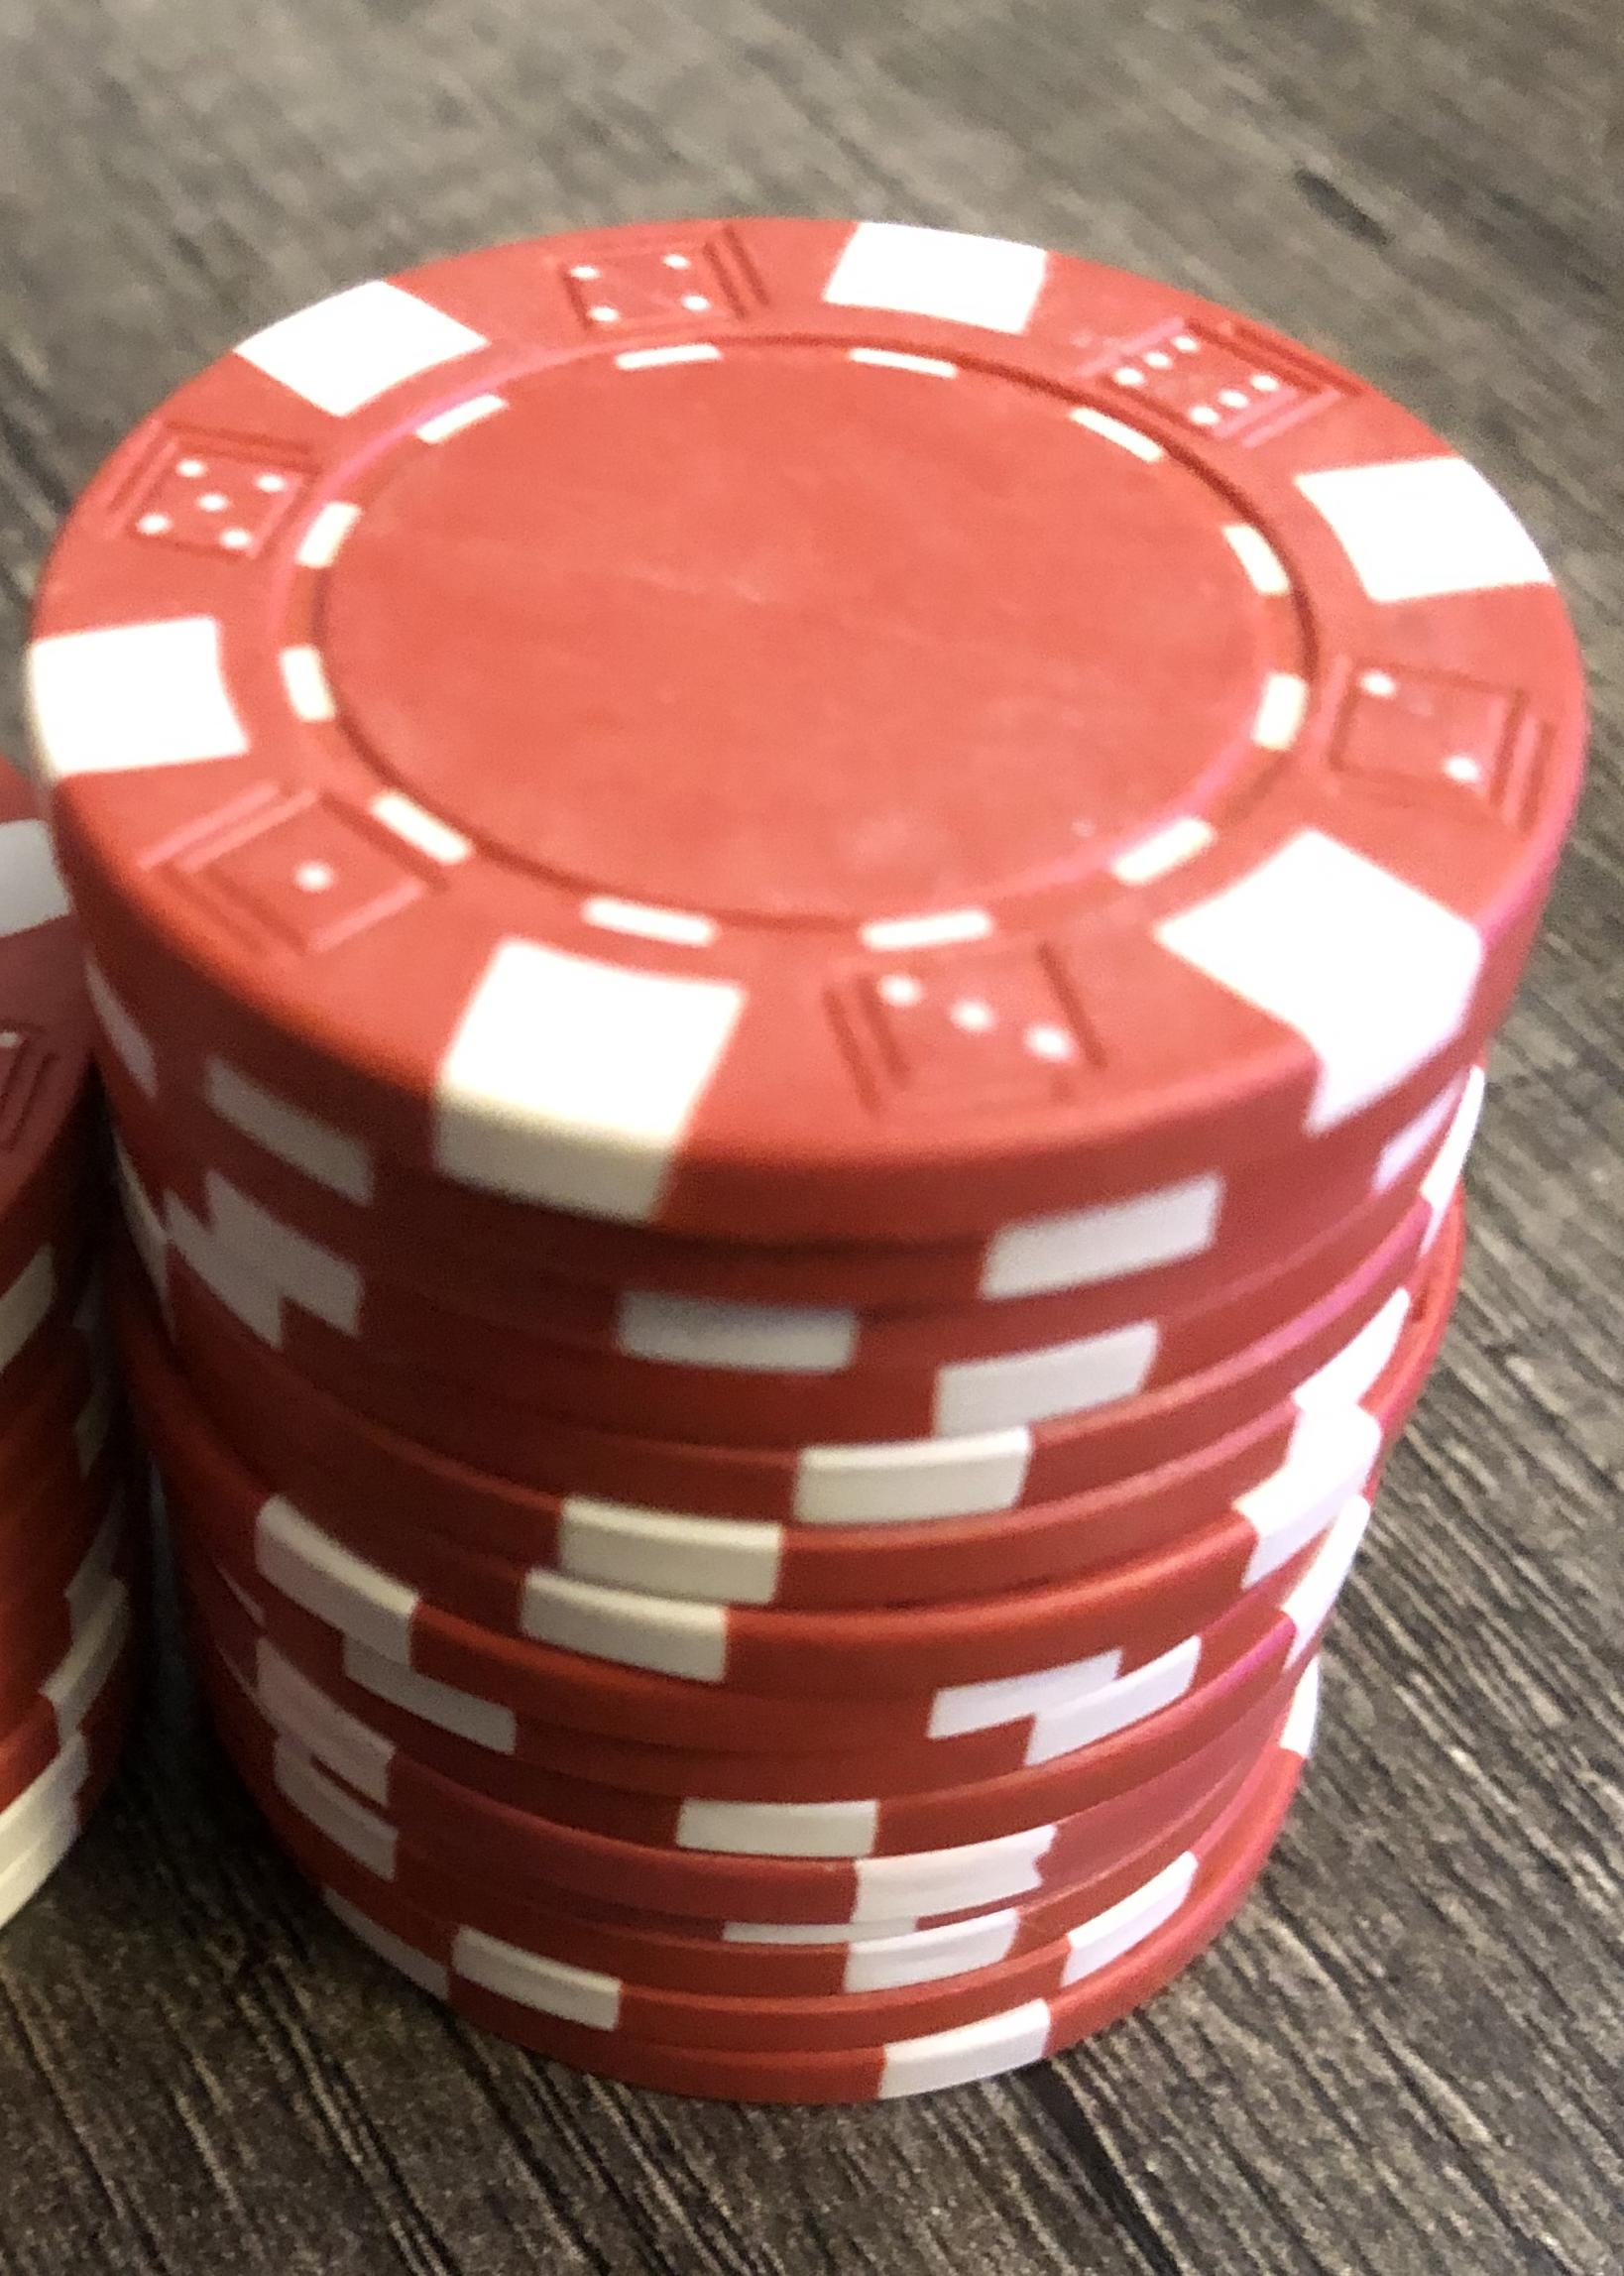Chip: (2, 2, 1624, 2276)
